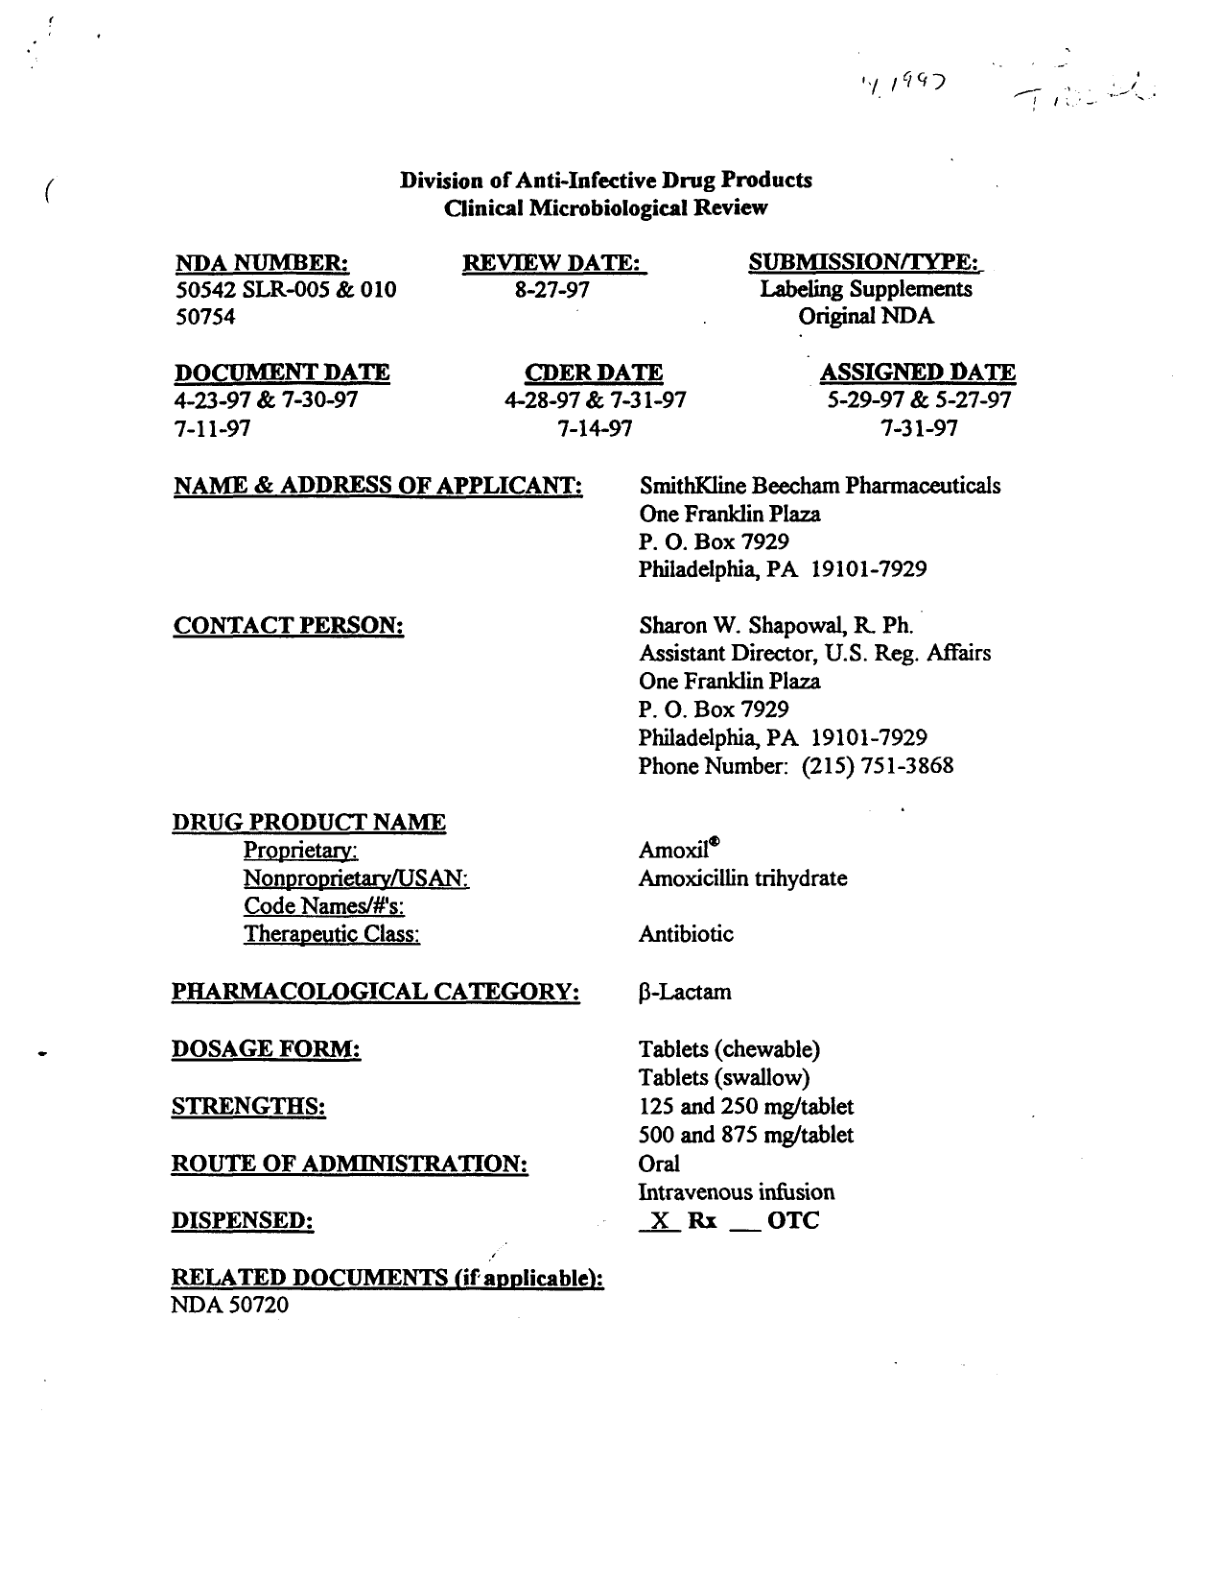nolines: (171, 470, 1004, 1320), (173, 246, 986, 331), (173, 359, 1022, 436)
